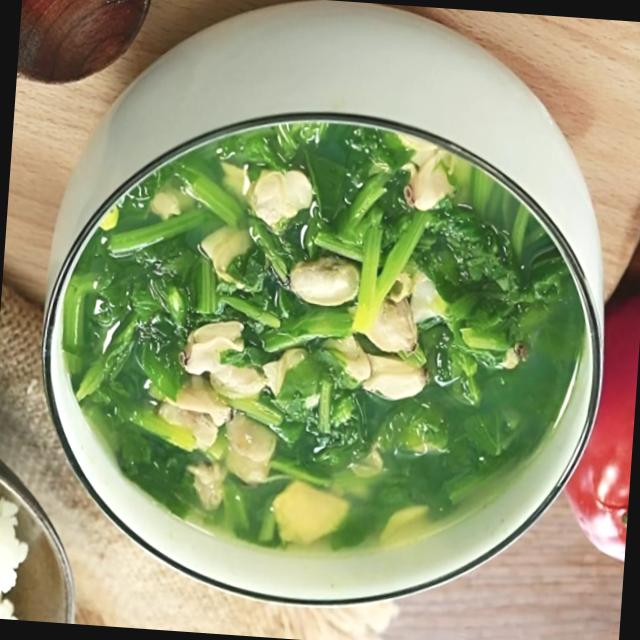canh cai: (64, 139, 583, 559)
